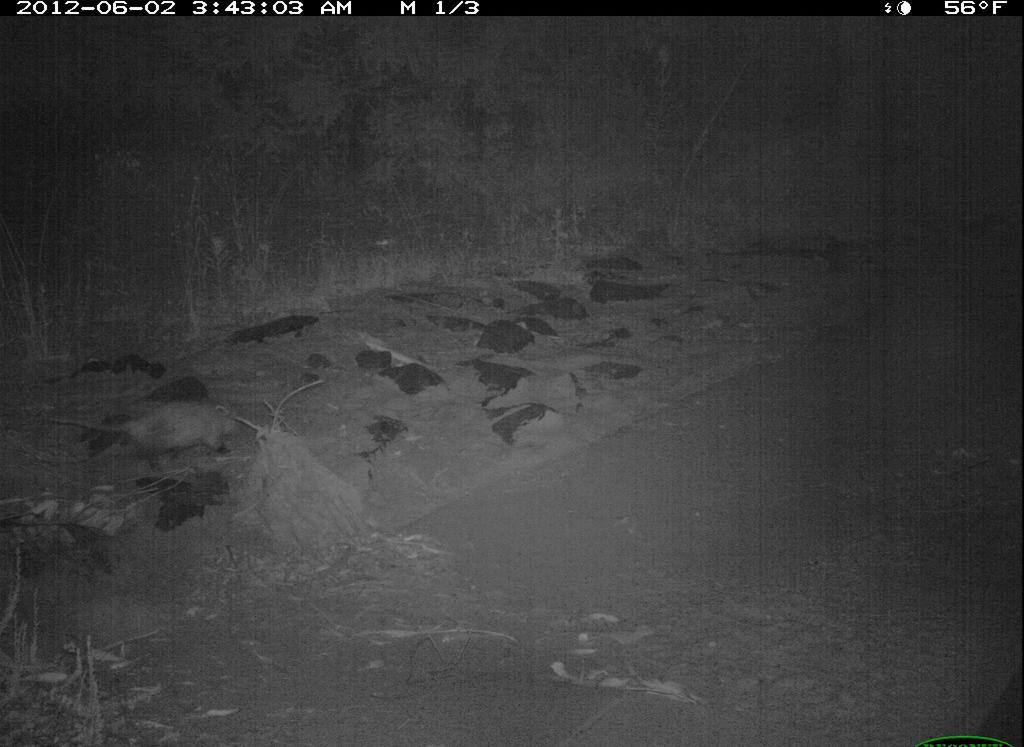opossum: (34, 393, 249, 475)
